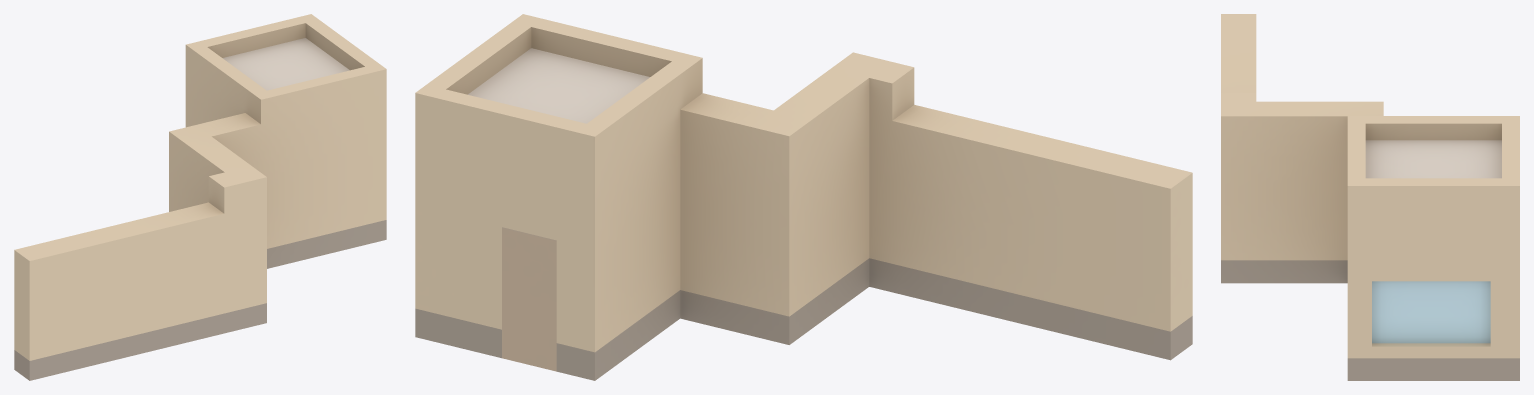
The model's file is momra5.glb.
The picture shows the model from 3 angles, left to right: view 1: azimuth 30°, elevation 25°; view 2: azimuth 150°, elevation 25°; view 3: azimuth 270°, elevation 25°; orthographic projection. The views are drawn at different scales.
Parts seen in each view (by area): view 1: momra5; view 2: momra5; view 3: momra5.
Boxes of the visible parts, box(x1,y1,x2,y2) form: momra5: box(14, 14, 386, 380); momra5: box(415, 14, 1192, 380); momra5: box(1221, 14, 1519, 380).
Bounding box in the file's own units: 10.83 × 4.28 × 5.95.
Materials: 1 (1 with a texture image).
